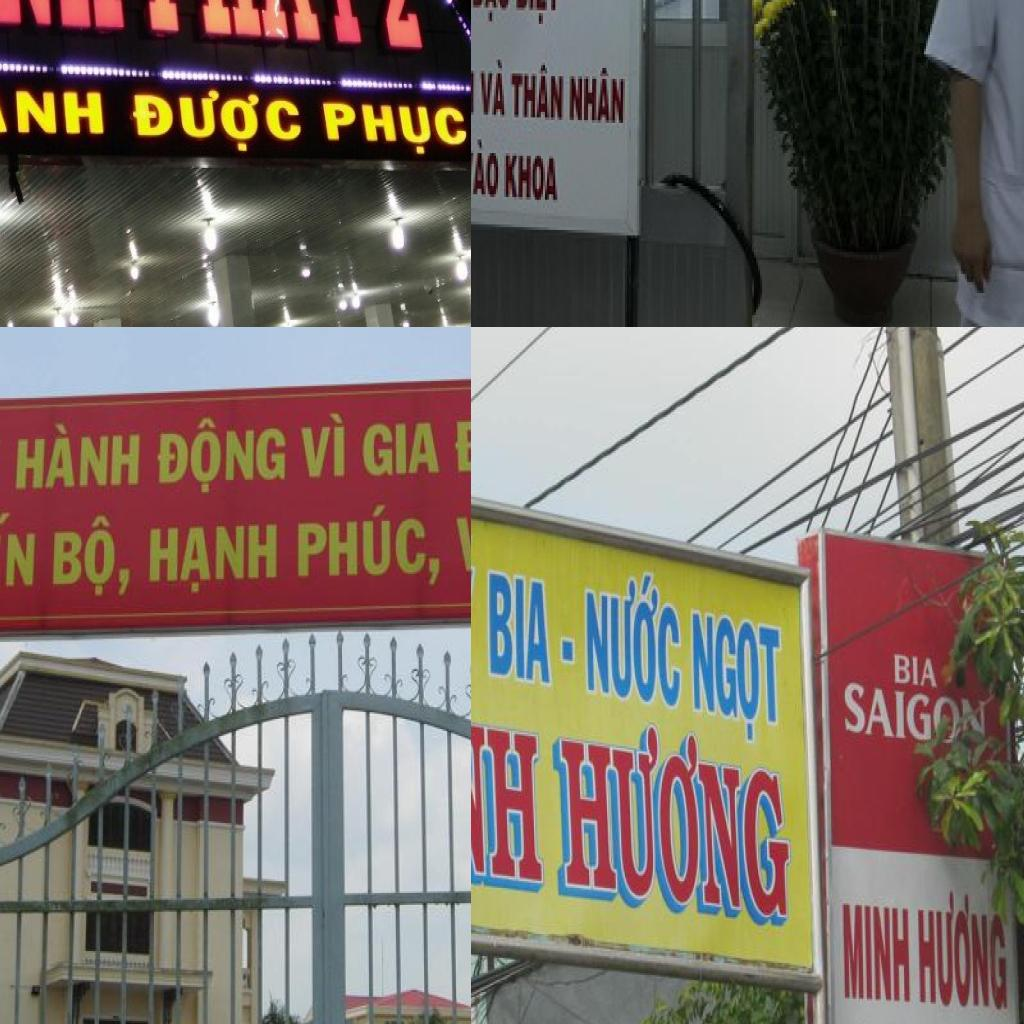text: (552, 710, 795, 938), (125, 70, 309, 164), (471, 693, 545, 899), (580, 569, 683, 714), (689, 600, 784, 750), (296, 502, 443, 591), (915, 883, 1013, 1016), (321, 82, 471, 160), (137, 0, 368, 48), (156, 417, 290, 499), (148, 521, 280, 599), (0, 65, 112, 147), (13, 422, 144, 492), (486, 562, 554, 685), (841, 896, 914, 1006), (50, 514, 134, 601), (840, 678, 935, 745), (358, 418, 444, 482), (568, 62, 629, 126), (510, 60, 568, 126), (297, 410, 347, 483), (367, 0, 429, 51), (0, 510, 38, 592), (504, 153, 562, 203), (888, 646, 942, 692), (471, 527, 484, 683), (478, 57, 508, 123), (471, 139, 500, 199), (512, 0, 565, 32), (471, 0, 512, 24), (557, 632, 579, 668)
